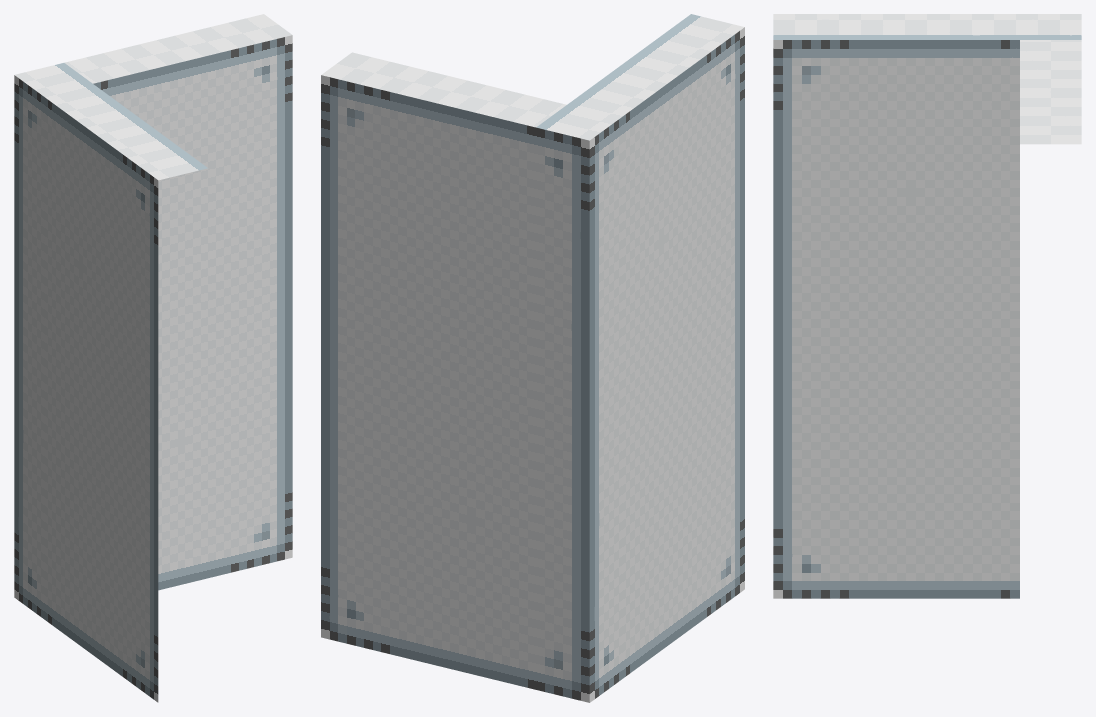
The model's file is corner.glb.
3 renders of one model, left to right at view 1: azimuth 30°, elevation 25°; view 2: azimuth 150°, elevation 25°; view 3: azimuth 270°, elevation 25°, orthographic. The views are drawn at different scales.
Parts seen in each view (by area): view 1: Corner; view 2: Corner; view 3: Corner.
Part boxes in pixels (x1,y1,x2,y2): Corner: (14,14,292,702); Corner: (321,14,744,702); Corner: (773,14,1081,598).
Bounding box in the file's own units: 2 × 4 × 2.
Materials: 1 (1 with a texture image).
